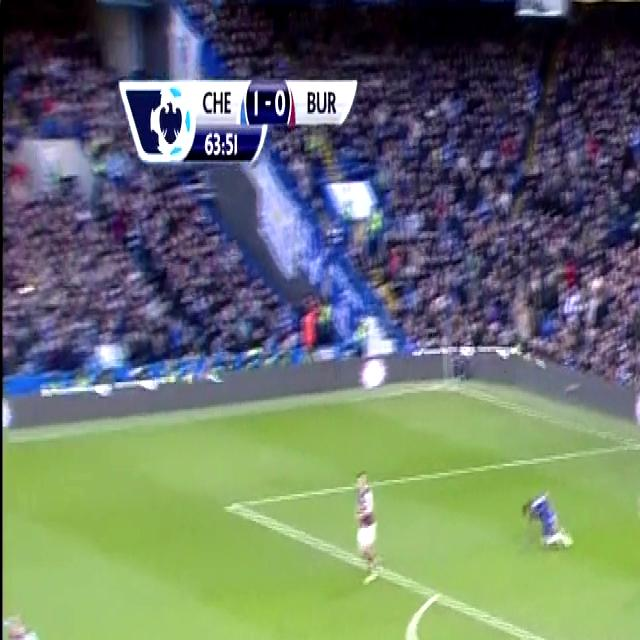soccer-player: (518, 478, 576, 564), (346, 461, 385, 586), (1, 602, 52, 640), (630, 459, 640, 592)
